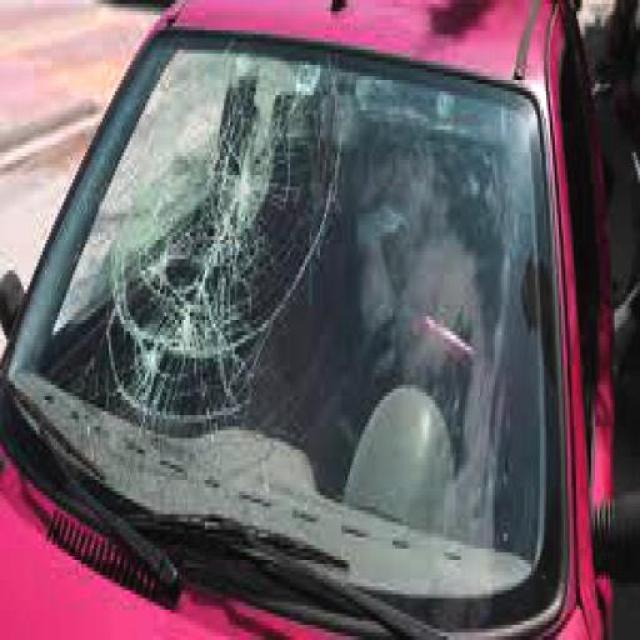car damage: (156, 80, 316, 290)
